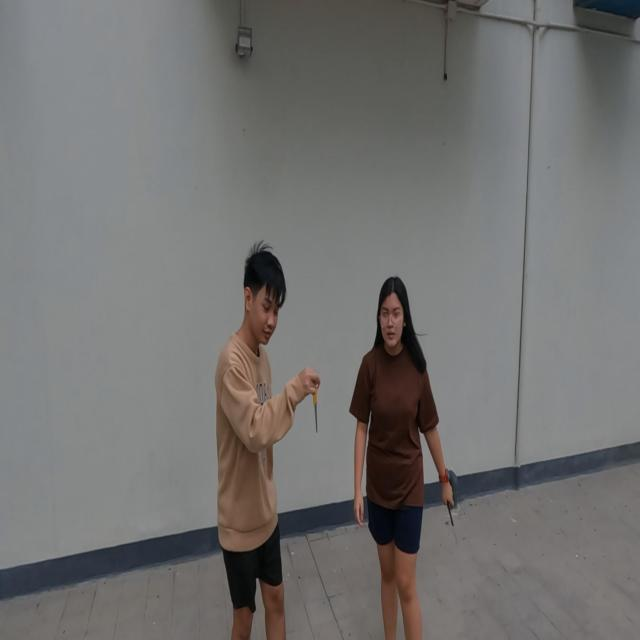scissor: (312, 379, 320, 434)
